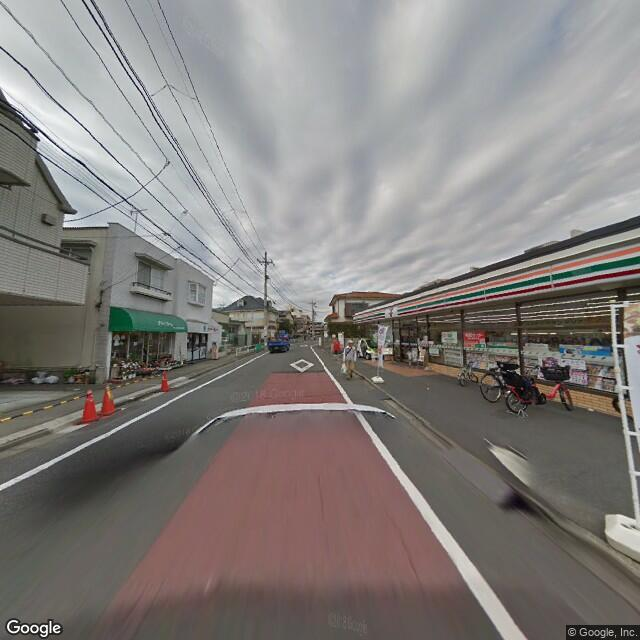7-eleven: (352, 235, 639, 329)
